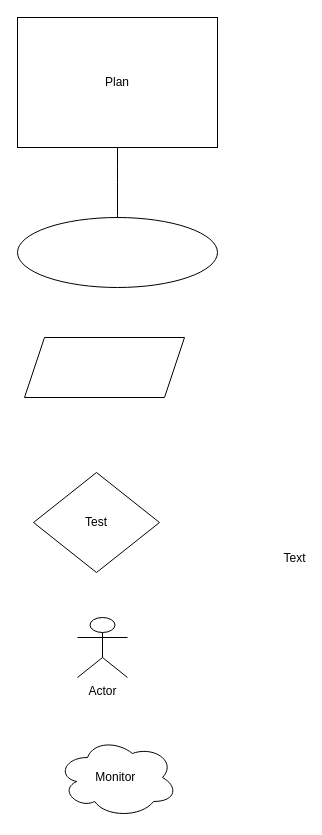
Some shapes in this 322 by 835 pixel diagram are drawn without their labels. Each missing label, with the centre of its shape:
"Build" goes at (104,367).
"Develop" goes at (117,252).
